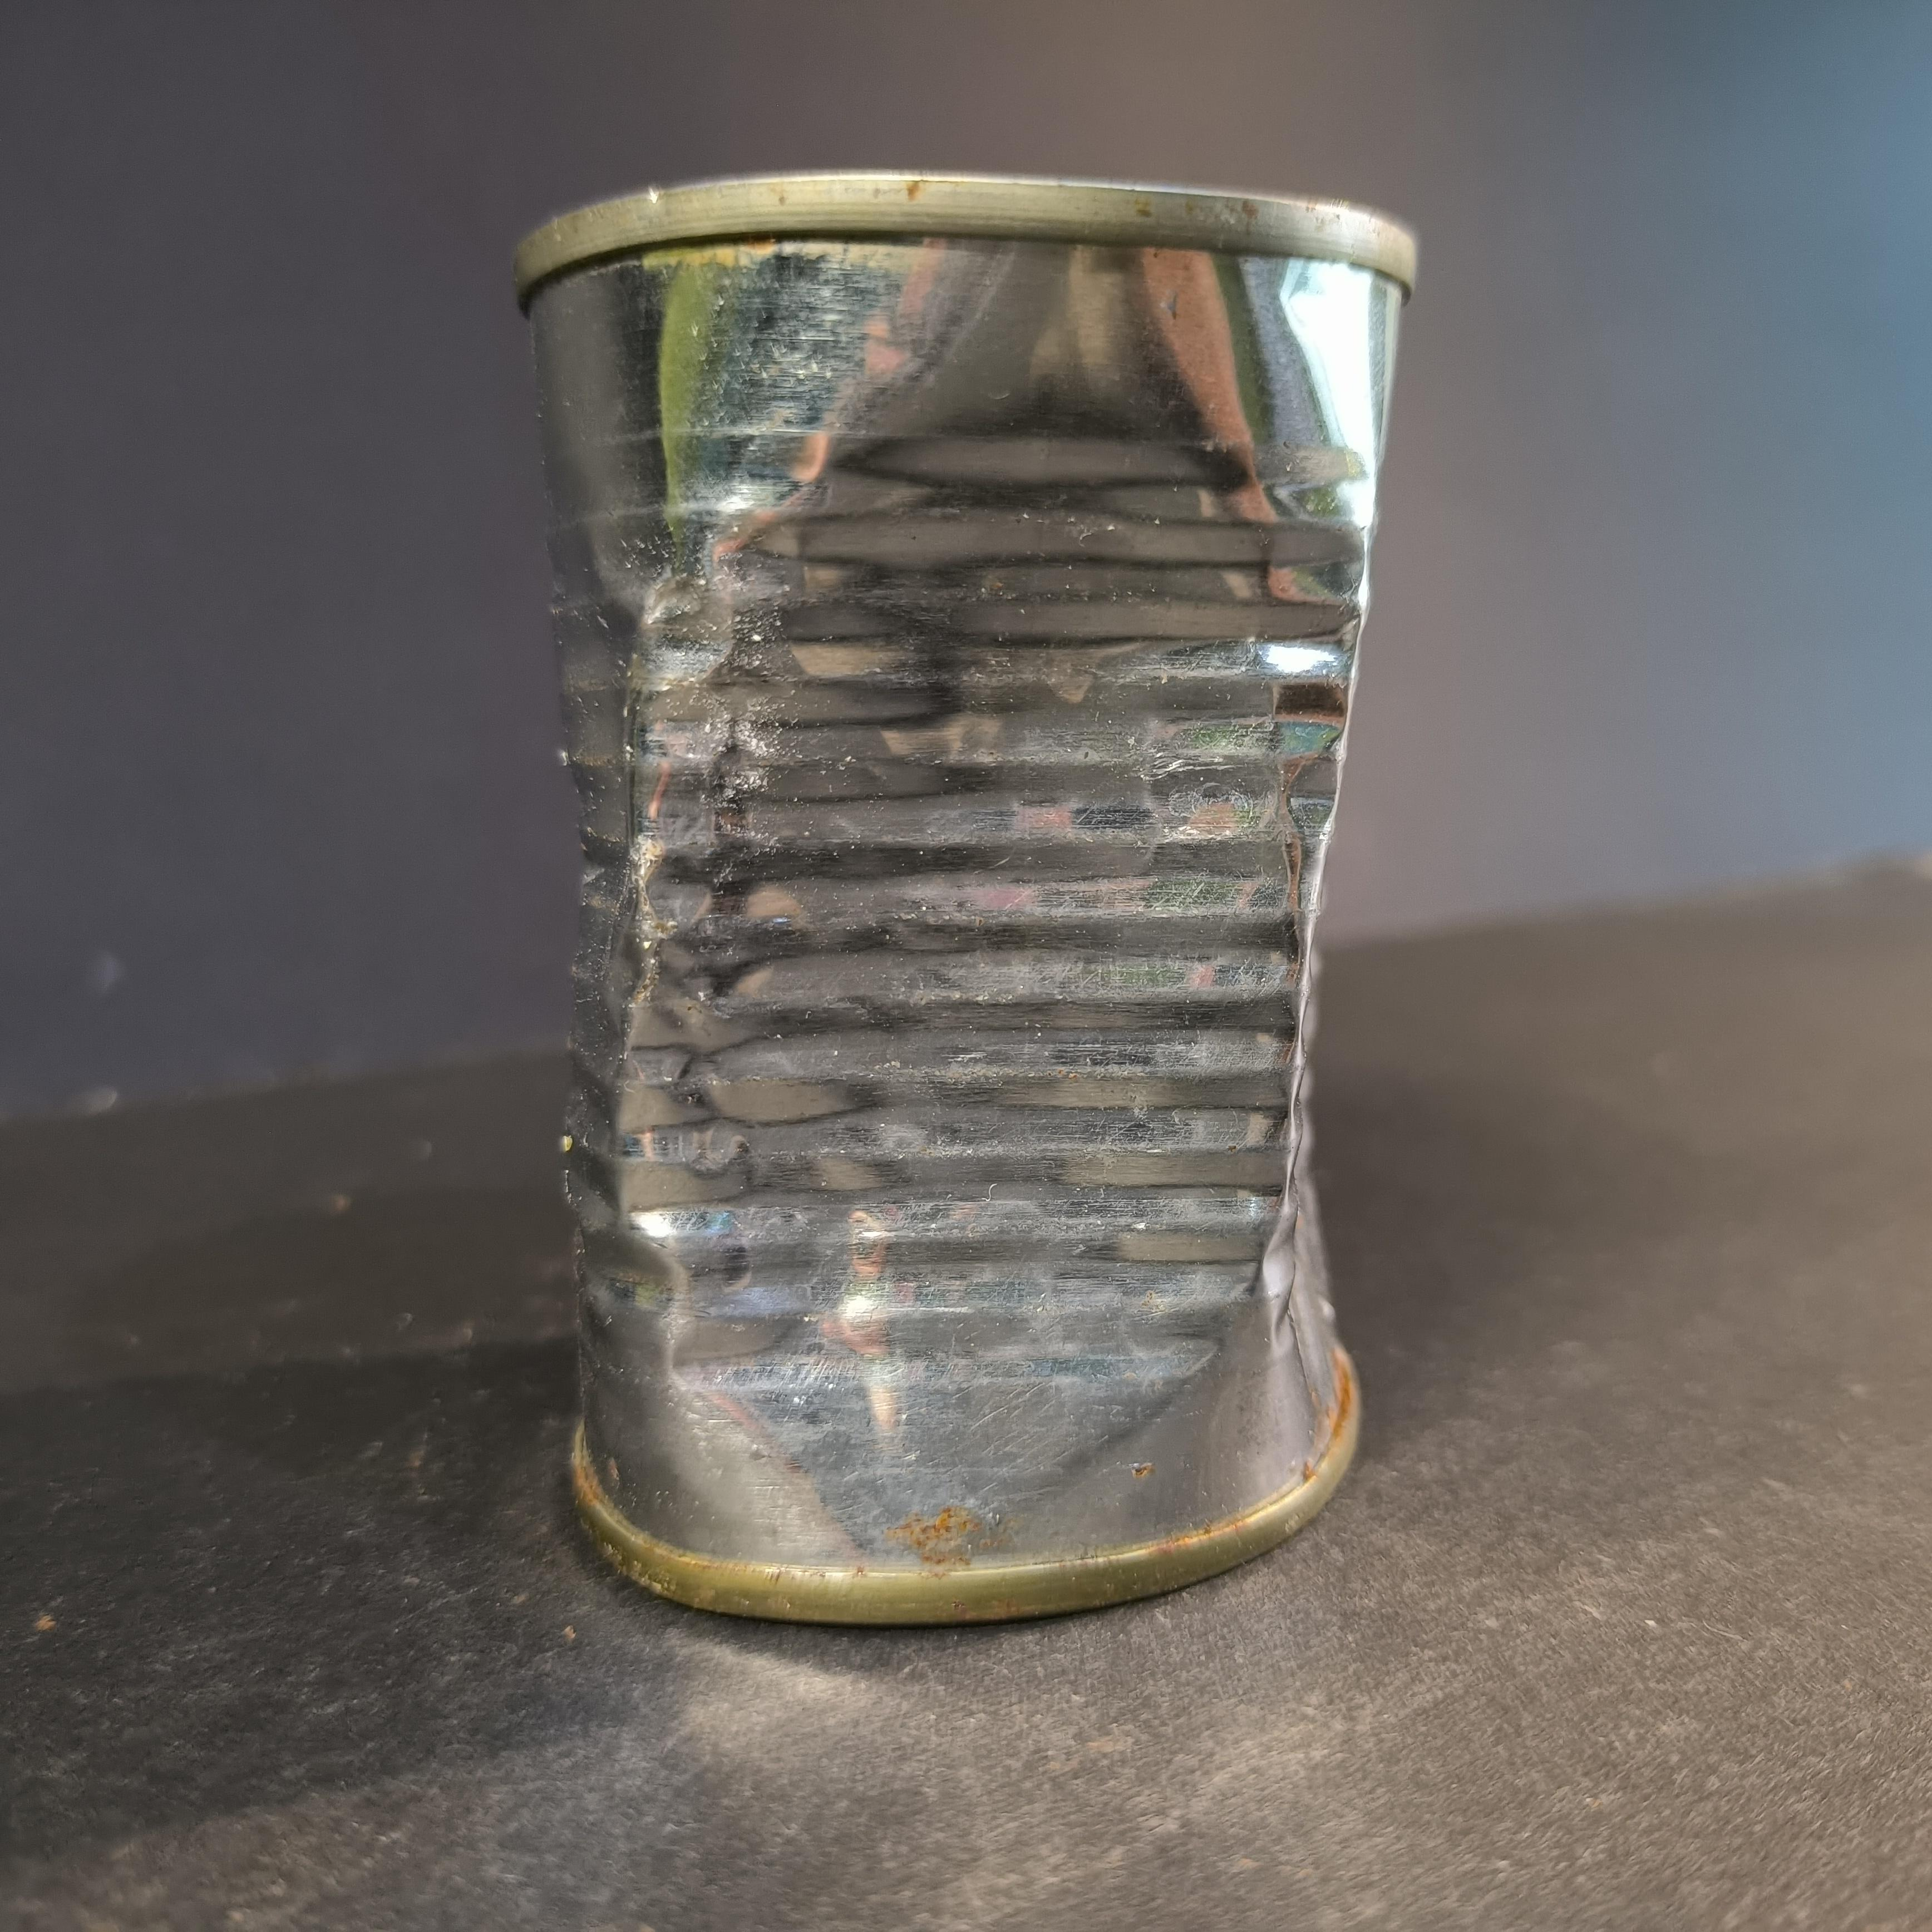Dented: (439, 136, 1444, 1675)
